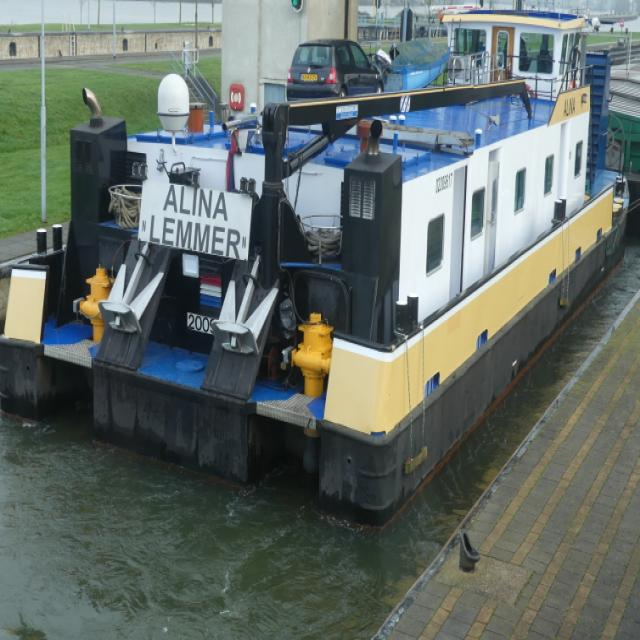tugboat: (1, 1, 636, 544)
